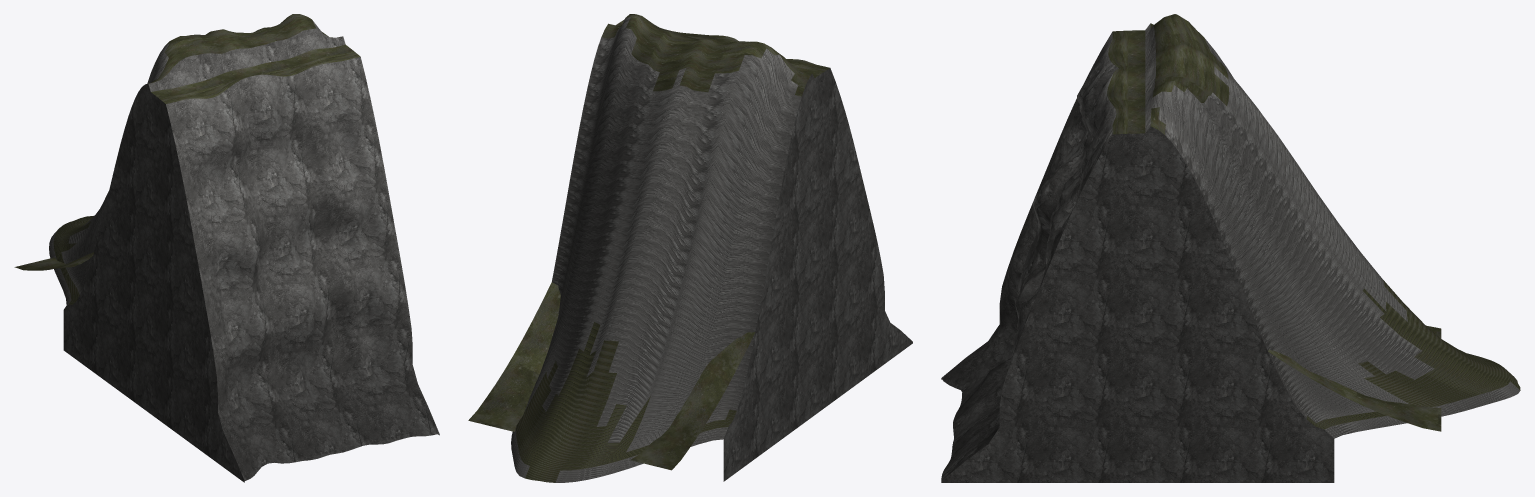
Rendered from seacliff_straight6c_h8_v5_summer.glb.
The picture shows the model from 3 angles, left to right: view 1: azimuth 30°, elevation 25°; view 2: azimuth 150°, elevation 25°; view 3: azimuth 270°, elevation 25°; orthographic projection. The views are drawn at different scales.
Parts seen in each view (by area): view 1: seacliff_straight6c_h8; view 2: seacliff_straight6c_h8; view 3: seacliff_straight6c_h8.
Part boxes in pixels (x1=…): seacliff_straight6c_h8: x1=14, y1=14, x2=439, y2=482; seacliff_straight6c_h8: x1=468, y1=14, x2=912, y2=482; seacliff_straight6c_h8: x1=941, y1=14, x2=1520, y2=482.
Bounding box in the file's own units: 6 × 10.47 × 14.23.
Materials: 2 (2 with a texture image).
